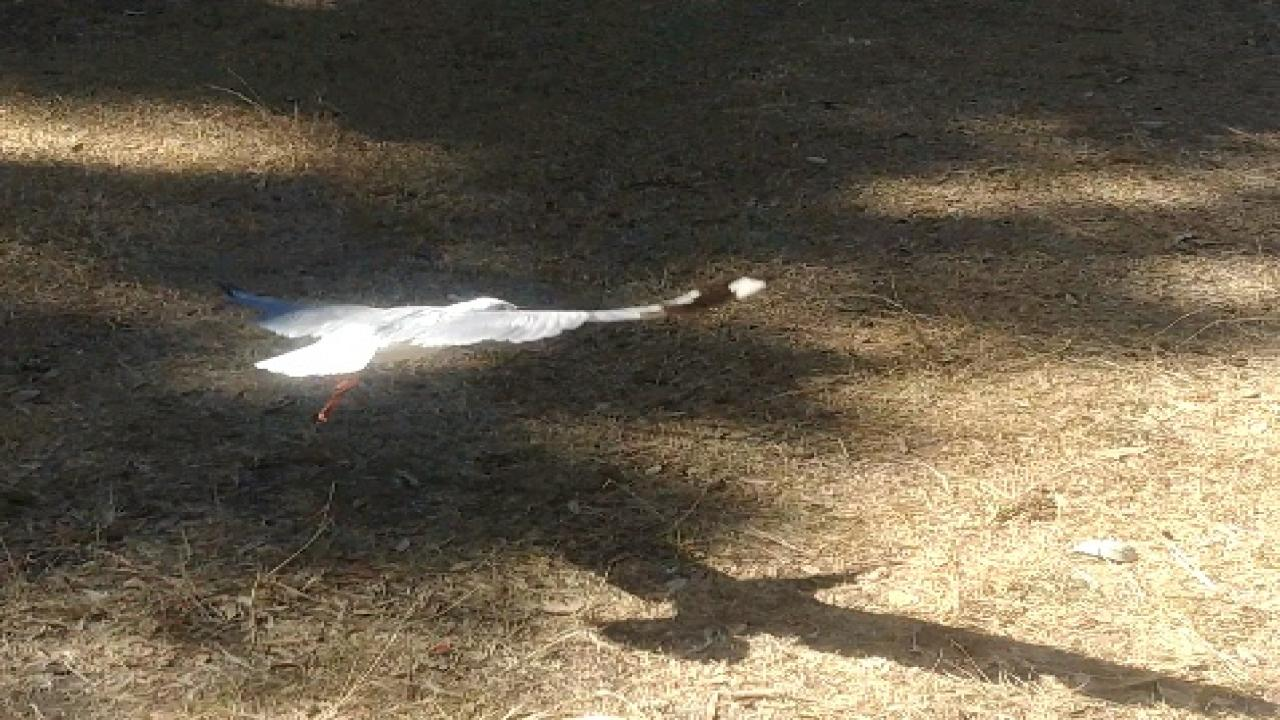Bird: (210, 271, 786, 428)
